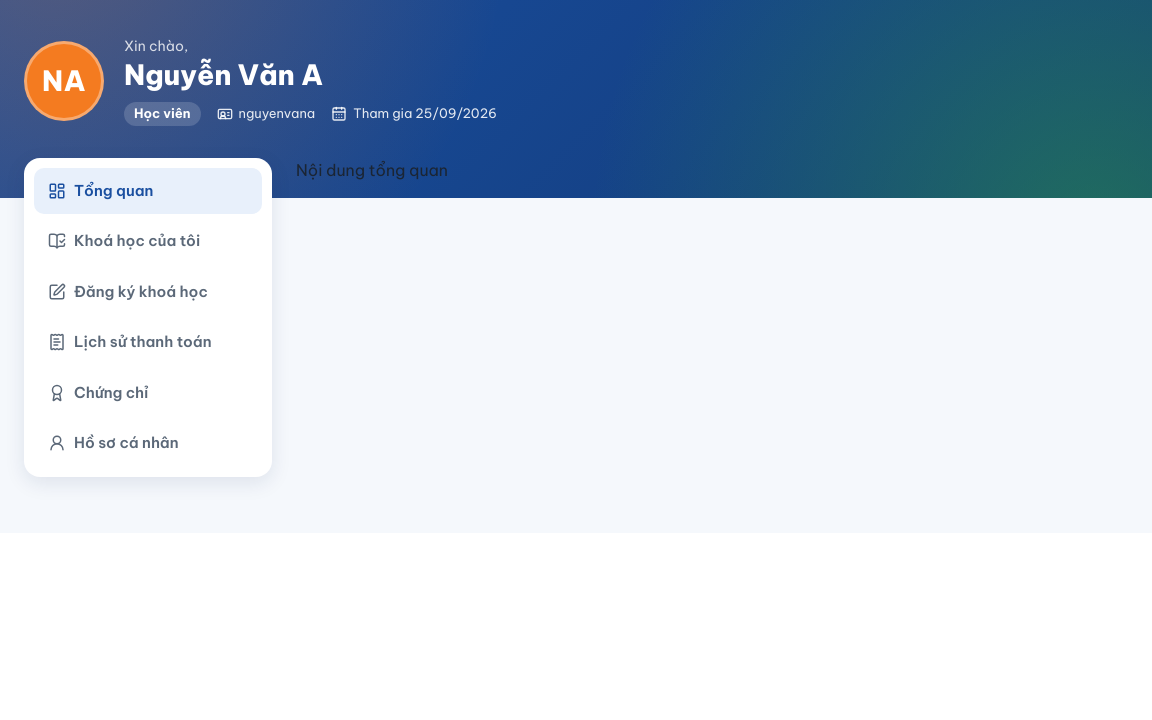
LearnerLayout › greets the learner and navigates between sections
The image size is (1152, 720).
Check: the text "Nguyễn Văn A" is shown, box [124,57,323,92]
Check: the text "NA" is shown, box [24,41,104,121]
Click the link "Hồ sơ cá nhân": (113, 443) [48,433,179,452]
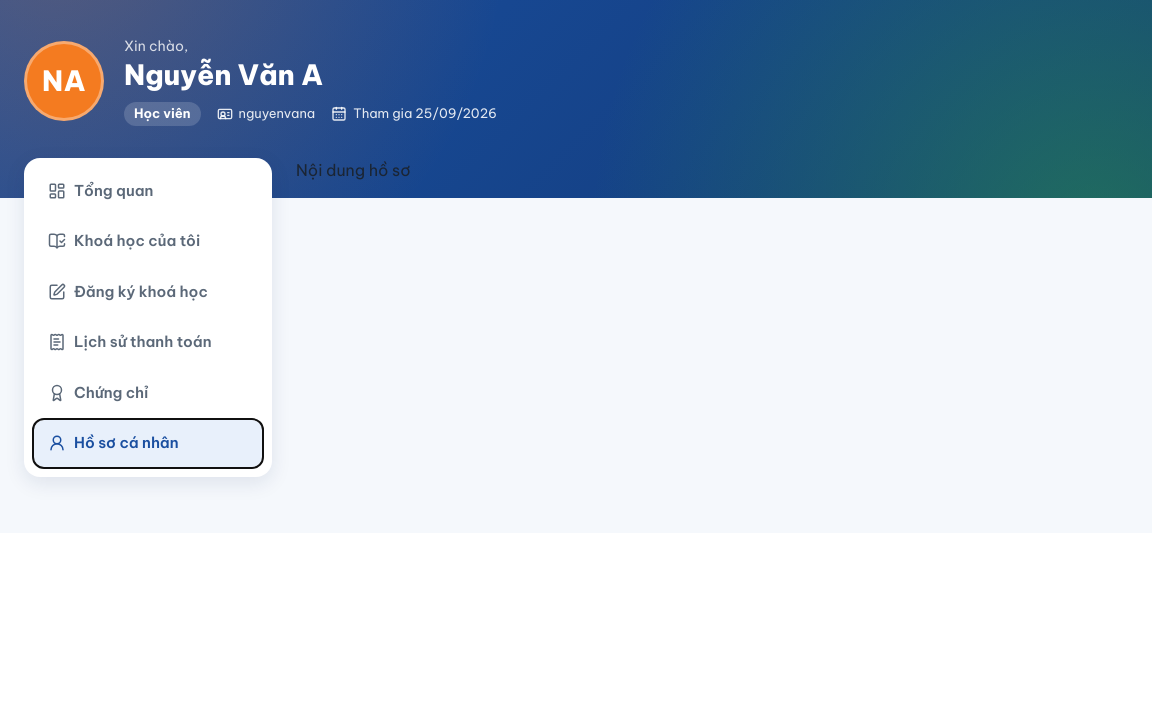
Check: the text "Nội dung hồ sơ" is shown, box [296,160,410,180]
